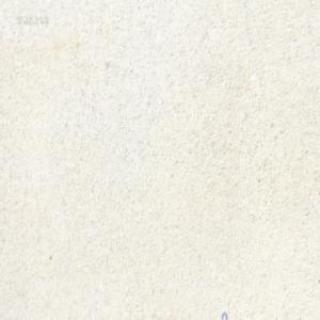Washertrack_idkeyframe: (220, 310, 227, 319)
